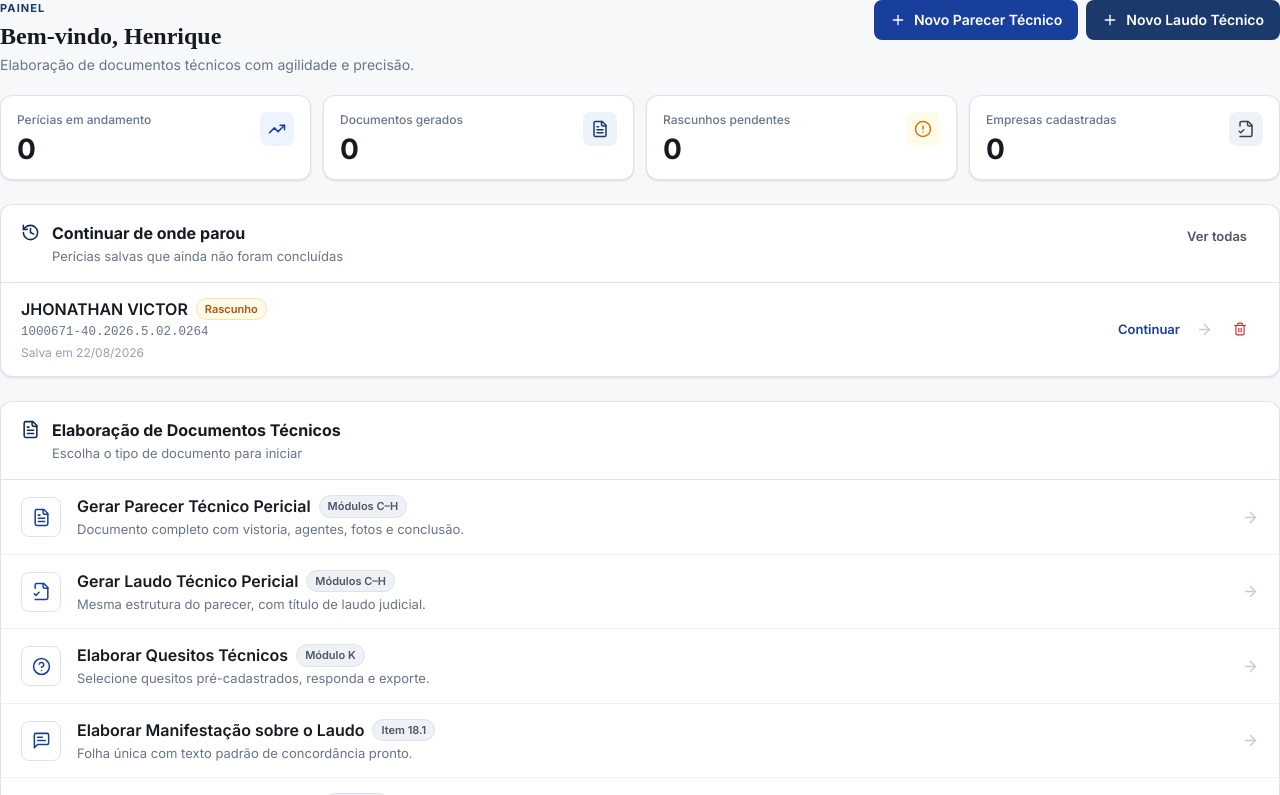
Test case: Início — descartar o que ficou em aberto › falha do servidor é dita, não engolida
The image size is (1280, 795).
Click the button named "Excluir perícia de JHONATHAN VICTOR" at (1240, 329), box [1221,313,1259,345]
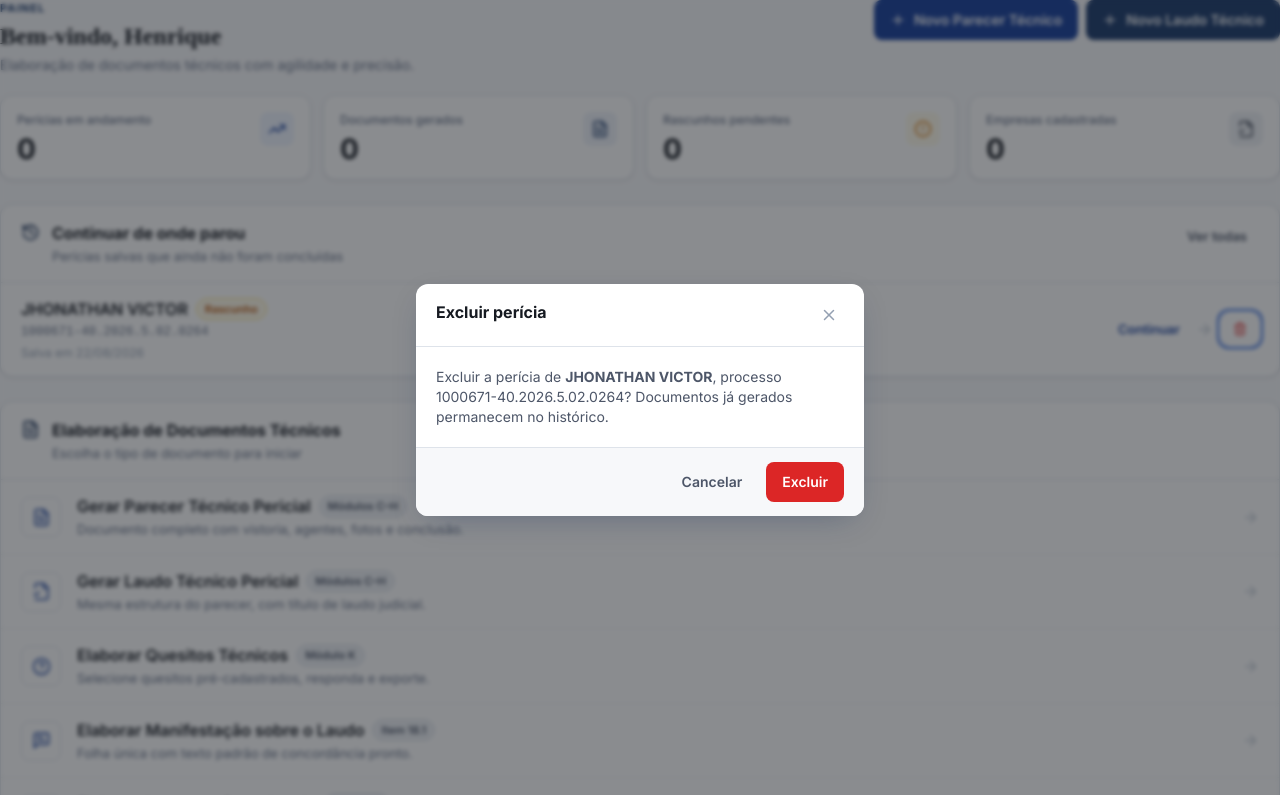
Click the button "Excluir" at (805, 482), box [766,462,844,502]
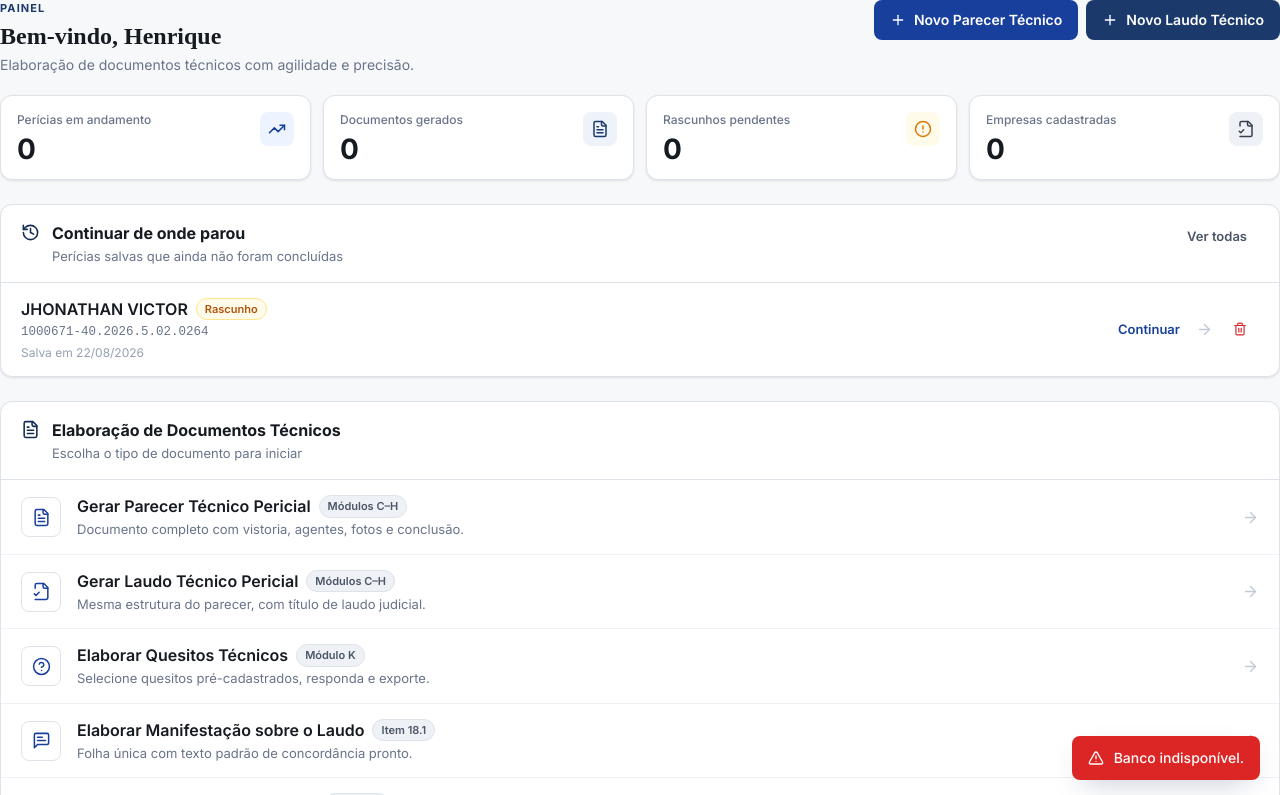
Result: the text "Banco indisponível." is shown at [1114,748,1244,768]
